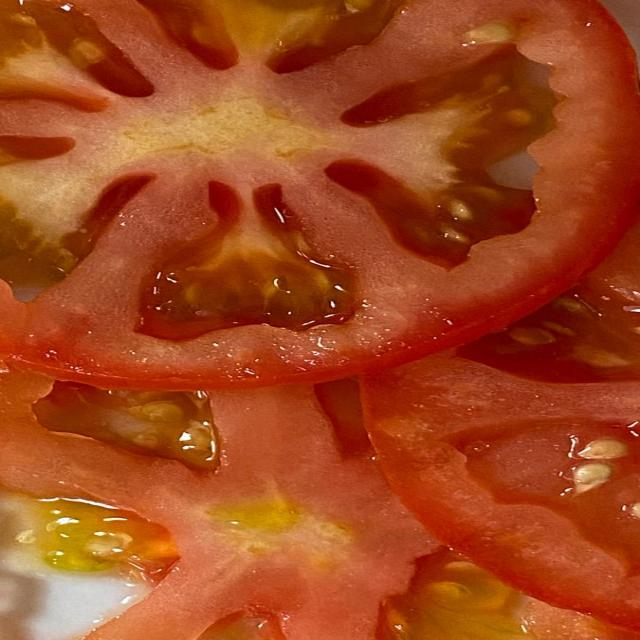sliced tomatoe: (0, 0, 639, 389), (0, 372, 438, 639), (363, 352, 639, 630), (459, 225, 639, 382), (377, 549, 639, 639)
